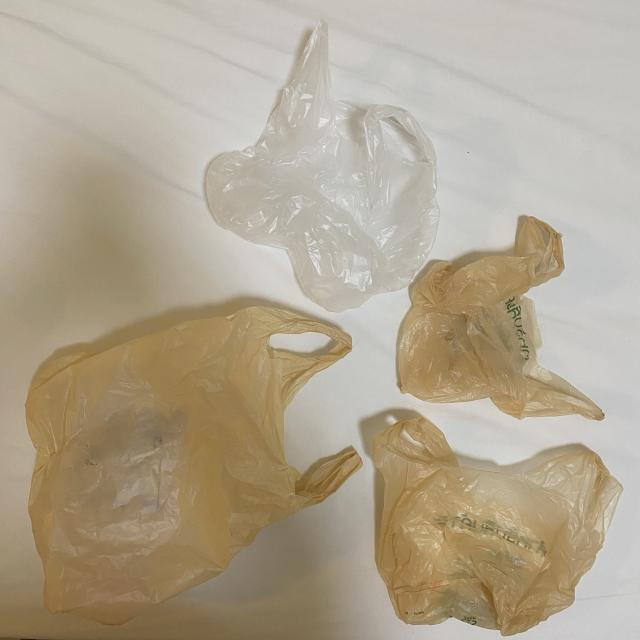Single-layer Plastic: (26, 306, 361, 624), (206, 21, 439, 311), (372, 419, 622, 635), (399, 218, 604, 420)
